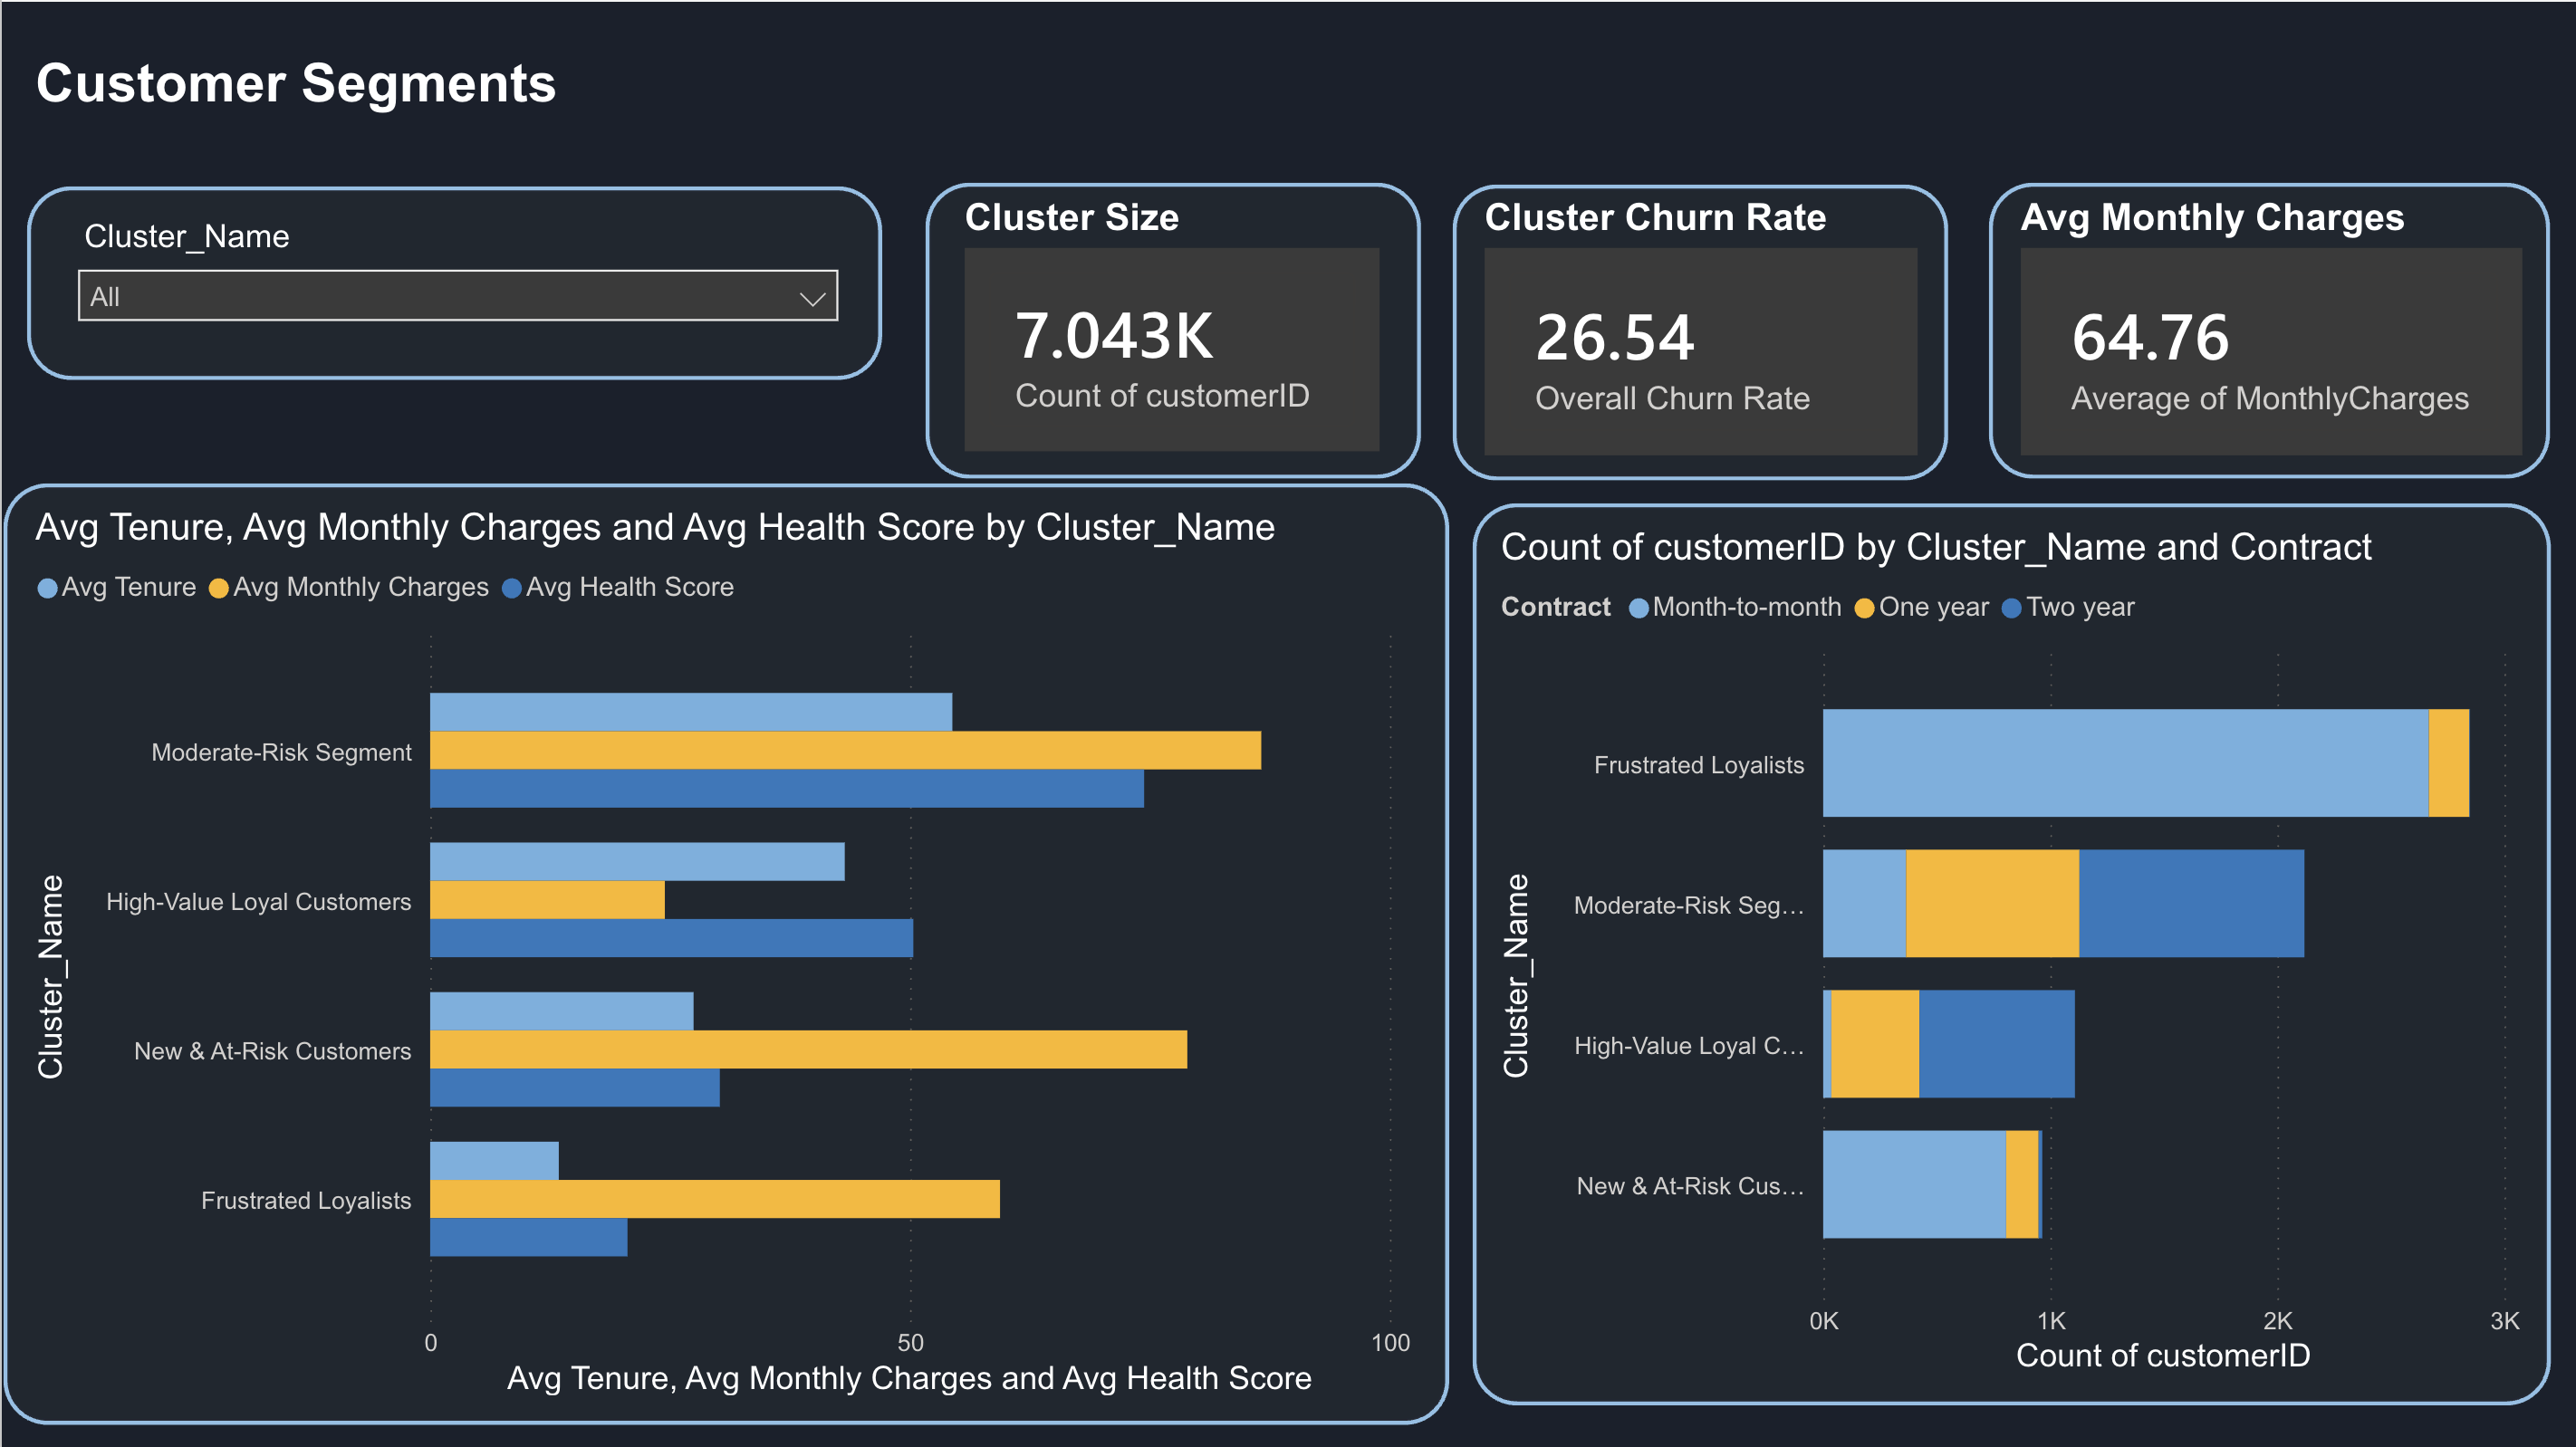

What the dashboard file says about the page in this screenshot:
{"tool":"powerbi","page":{"name":"Customer Segments","canvas":[1280,720],"ordinal":1},"visuals":[{"type":"shape","box":[0,238.5,719.5,469.2],"z":0},{"type":"shape","box":[457.7,88.8,247.7,148.6],"z":1000},{"type":"shape","box":[729.4,248.6,537,449.7],"z":2000},{"type":"shape","box":[985.6,88.8,280.2,148.6],"z":3000},{"type":"shape","box":[719.7,90.1,247.7,148.6],"z":4000},{"type":"shape","box":[12.1,90.7,426.2,97.8],"z":5000},{"type":"slicer","fields":{"Values":["telco_churn_final.Cluster_Name"]},"box":[27.7,102.4,397.6,74.3],"z":6000},{"type":"cardVisual","title":"Cluster Size","fields":{"Data":["CountNonNull(telco_churn_final.customerID)"]},"box":[473.3,96.7,216.4,133],"z":7000},{"type":"cardVisual","title":"Cluster Churn Rate","fields":{"Data":["telco_churn_final.Overall Churn Rate"]},"box":[731.4,96.7,225.5,134.3],"z":8000},{"type":"cardVisual","title":"Avg Monthly Charges","fields":{"Data":["Avg(telco_churn_final.MonthlyCharges)"]},"box":[997.3,96.7,259.4,134.3],"z":9000},{"type":"clusteredBarChart","fields":{"Category":["telco_churn_final.Cluster_Name"],"Y":["telco_churn_final.Avg Tenure","telco_churn_final.Avg Monthly Charges","telco_churn_final.Avg Health Score"]},"box":[11.7,250.3,693.4,447.1],"z":10000},{"type":"barChart","fields":{"Category":["telco_churn_final.Cluster_Name"],"Series":["telco_churn_final.Contract"],"Y":["CountNonNull(telco_churn_final.customerID)"]},"box":[739.8,260.3,516.2,426.2],"z":11000},{"type":"textbox","box":[11.7,19.6,299.8,45.6],"z":12000}]}

Visuals, with their boxes in screenshot pixels (x1, y1, x2, y2), scaled from the page's 1280x720 canvas onto the 2576x1447 screenshot:
shape: region(0, 479, 1448, 1423)
shape: region(921, 178, 1419, 477)
shape: region(1468, 500, 2549, 1404)
shape: region(1984, 178, 2547, 477)
shape: region(1448, 181, 1946, 480)
shape: region(24, 182, 882, 379)
slicer - telco_churn_final.Cluster_Name: region(56, 206, 856, 355)
"Cluster Size" cardVisual: region(953, 195, 1388, 462)
"Cluster Churn Rate" cardVisual: region(1472, 195, 1926, 465)
"Avg Monthly Charges" cardVisual: region(2007, 195, 2529, 465)
clusteredBarChart - telco_churn_final.Cluster_Name x telco_churn_final.Avg Tenure: region(24, 503, 1419, 1402)
barChart - telco_churn_final.Cluster_Name x telco_churn_final.Contract: region(1489, 523, 2528, 1380)
textbox: region(24, 40, 627, 131)
